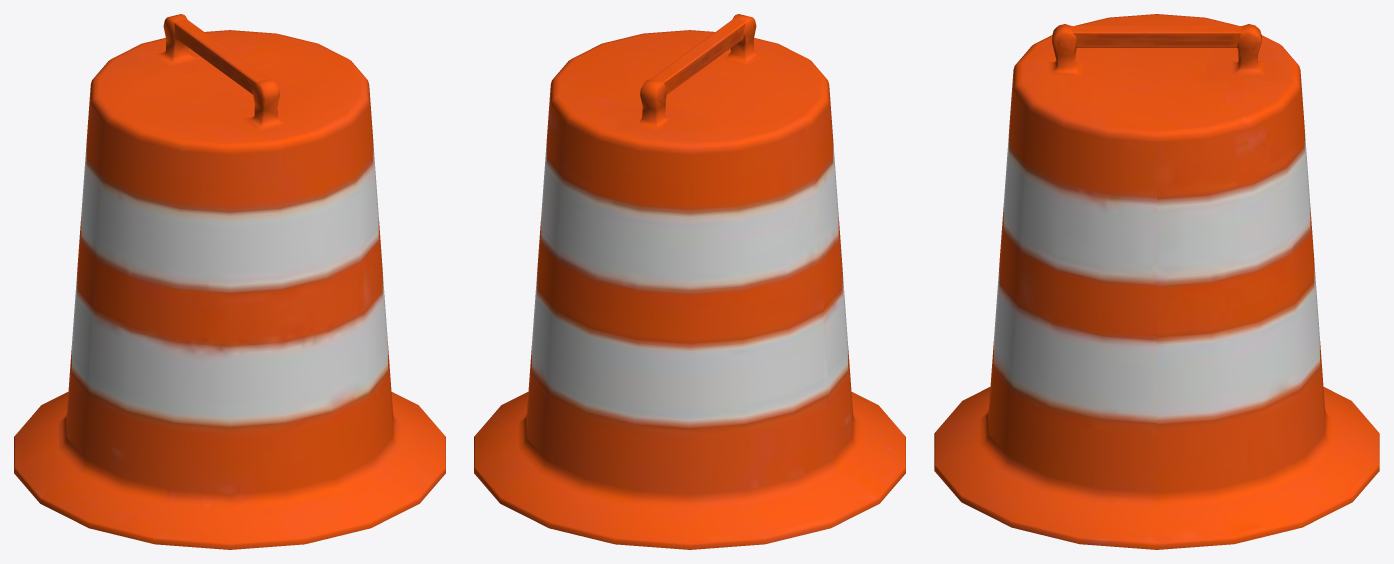
Rendered from traffic-drum.lod0.glb.
The picture shows the model from 3 angles, left to right: view 1: azimuth 30°, elevation 25°; view 2: azimuth 150°, elevation 25°; view 3: azimuth 270°, elevation 25°; orthographic projection. The views are drawn at different scales.
Parts seen in each view (by area): view 1: Object_13; view 2: Object_13; view 3: Object_13.
Part boxes in pixels (x1,y1,x2,y2): Object_13: (14, 14, 445, 549); Object_13: (474, 14, 905, 549); Object_13: (934, 14, 1379, 549).
Size of the model in its own units: 0.6559 by 0.6773 by 0.646.
1 material, 1 textured.
